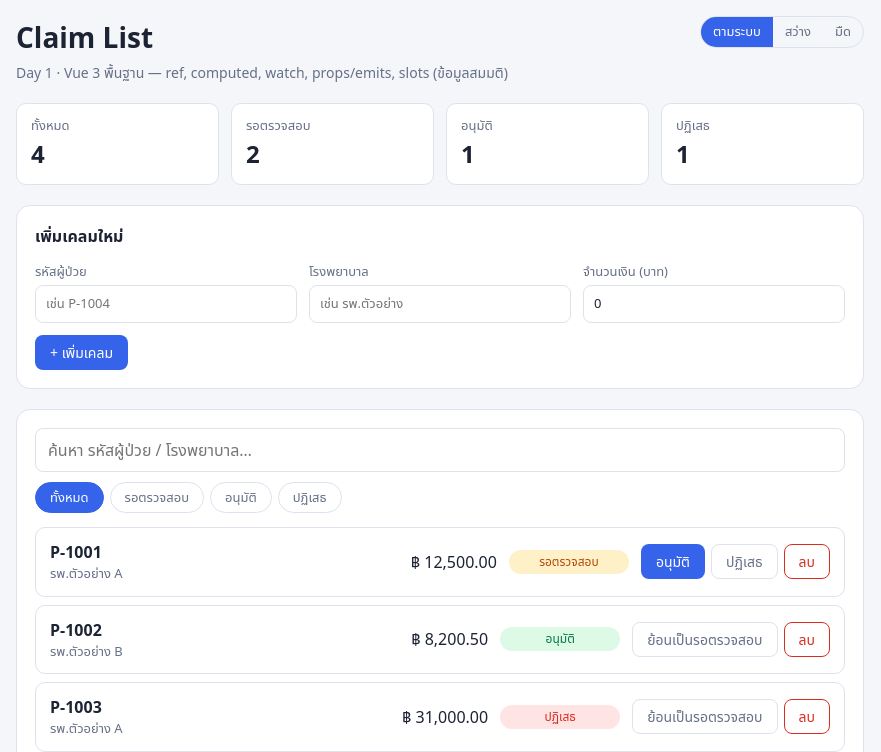
Test: App (integration) › กรองตามสถานะ รอตรวจสอบ
Click the button "รอตรวจสอบ": (157,497) [110, 482, 204, 513]
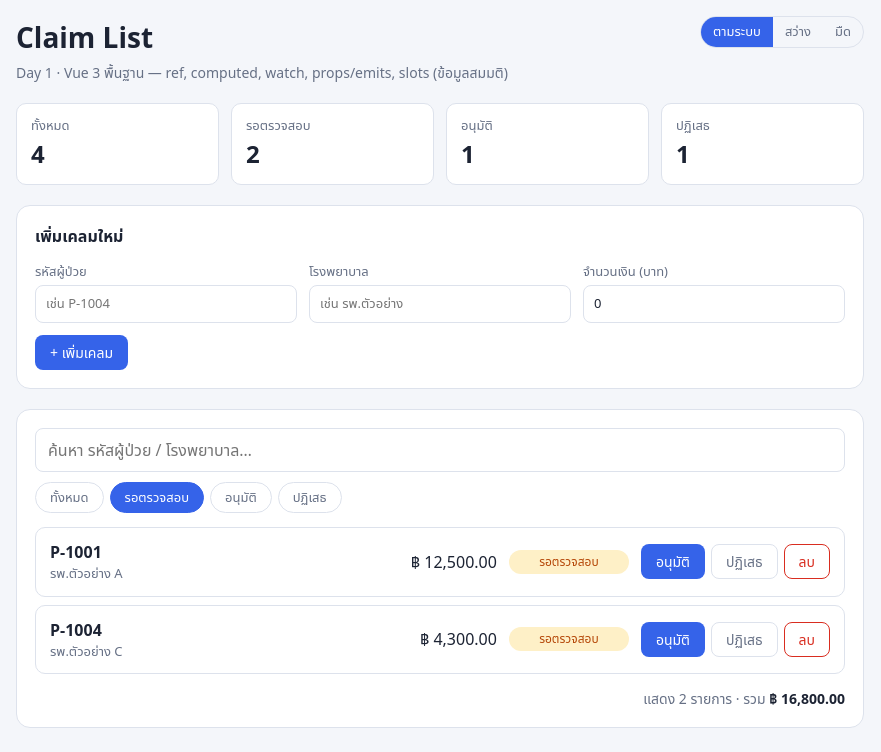
expect the number of list items is 2: met, box [35, 527, 845, 596]; [35, 604, 845, 674]
